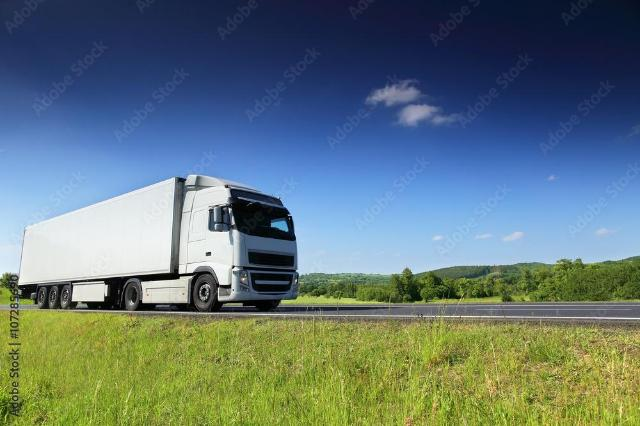truck: (51, 175, 307, 324)
